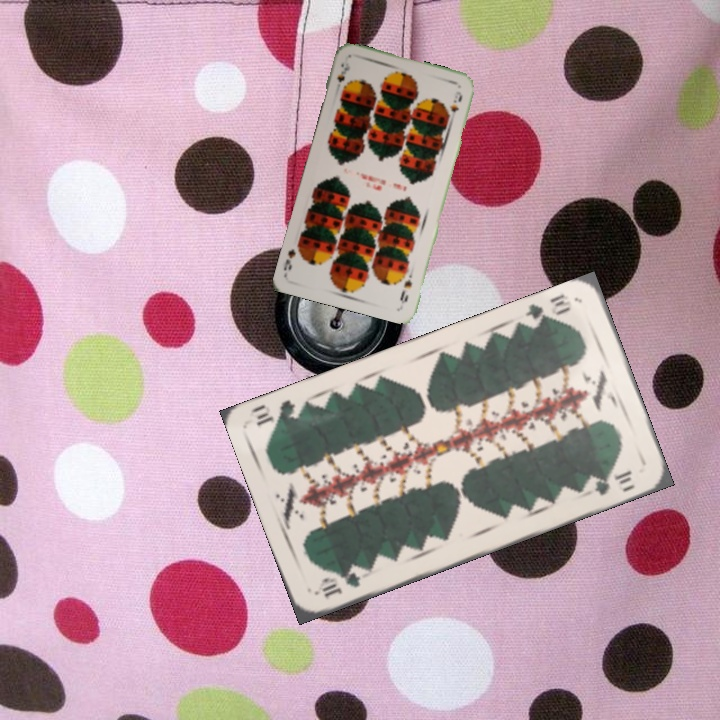G10: (521, 290, 575, 331), (318, 568, 363, 601)
S9: (396, 275, 415, 306), (333, 59, 353, 85)
